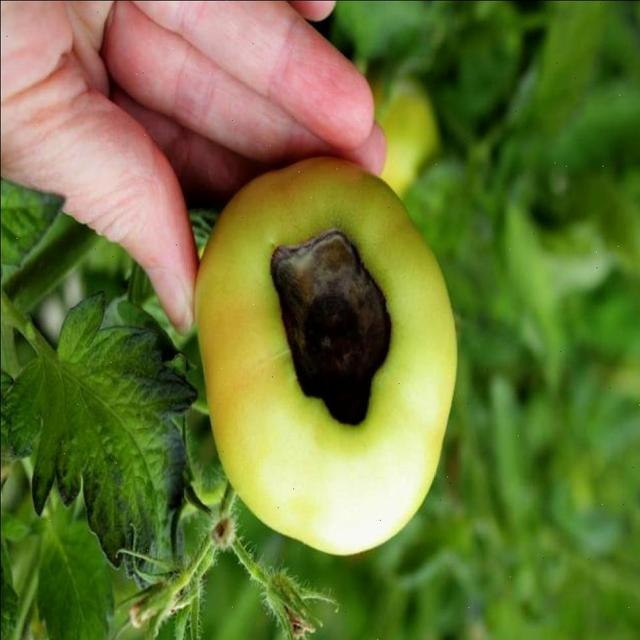Blossom End Rot Fruit: (176, 151, 262, 290)
